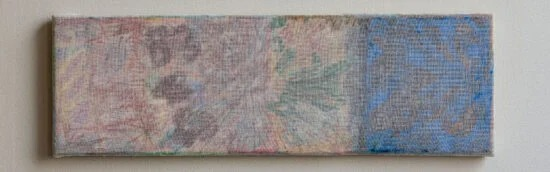painting: (51, 14, 495, 158)
